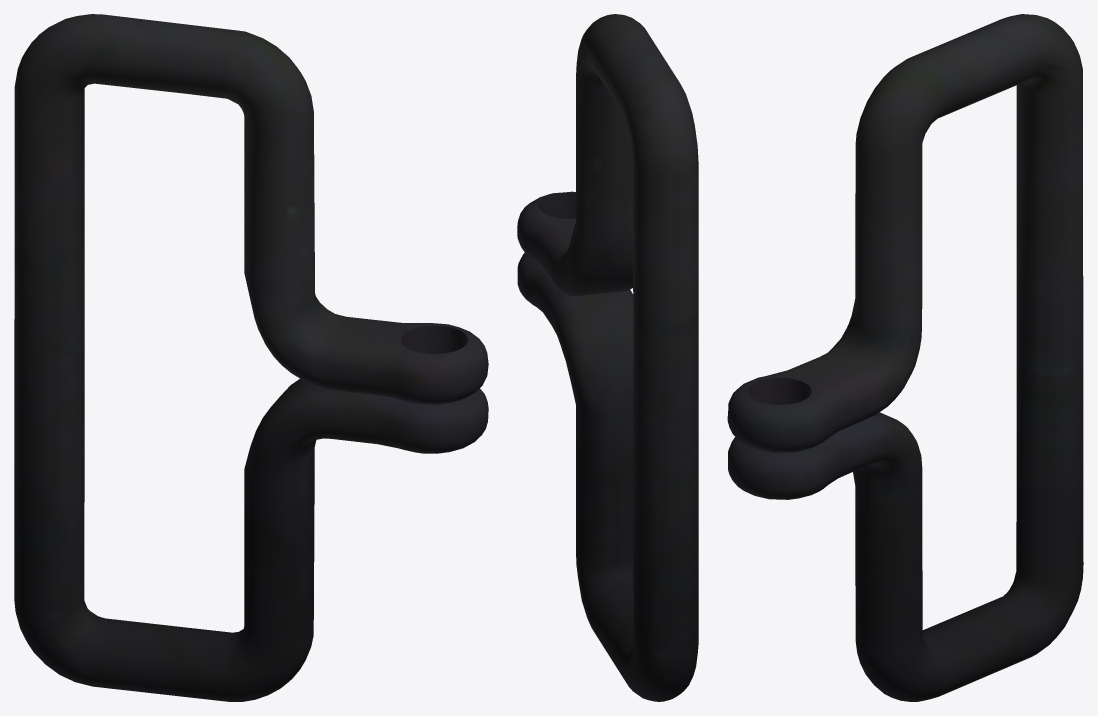
Rendered from Small_Sling_Swivel.dae.
3 views of the same model, side by side, from view 1: azimuth 30°, elevation 25°; view 2: azimuth 150°, elevation 25°; view 3: azimuth 270°, elevation 25° (orthographic). The views are drawn at different scales.
Visible parts, largest first — view 1: Small_Sling_Swivel; view 2: Small_Sling_Swivel; view 3: Small_Sling_Swivel.
Boxes of the visible parts, bbox=[...] form: Small_Sling_Swivel: bbox=[14, 14, 488, 701]; Small_Sling_Swivel: bbox=[517, 14, 698, 701]; Small_Sling_Swivel: bbox=[727, 14, 1083, 701].
Size of the model in its own units: 0.0205 by 0.0205 by 0.0406.
Materials: 1 (1 with a texture image).
